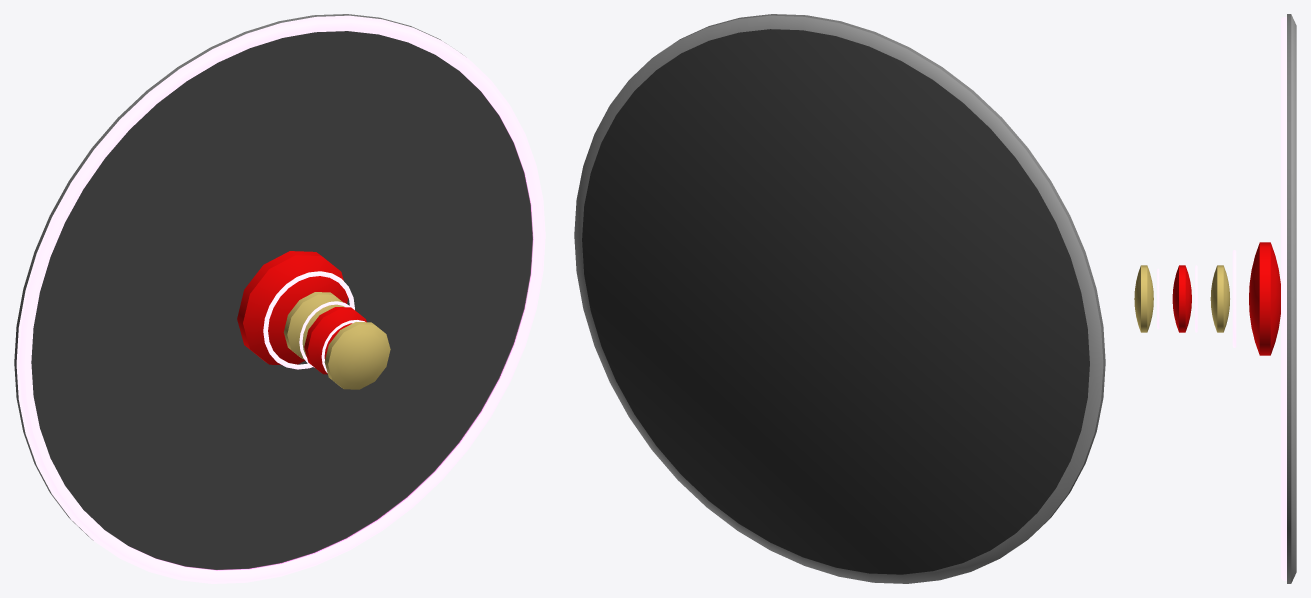
The model's file is BP_TableCircle_low.fbx.
3 views of the same model, side by side, from view 1: azimuth 30°, elevation 25°; view 2: azimuth 150°, elevation 25°; view 3: azimuth 270°, elevation 25° (orthographic). The views are drawn at different scales.
Visible parts, largest first — view 1: Table Circle 2; view 2: Table Circle 2; view 3: Table Circle 2.
Part boxes in pixels (x1=…): Table Circle 2: x1=14, y1=14, x2=545, y2=583; Table Circle 2: x1=574, y1=14, x2=1105, y2=583; Table Circle 2: x1=1134, y1=14, x2=1296, y2=583.
Bounding box in the file's own units: 226 × 226 × 64.11.
